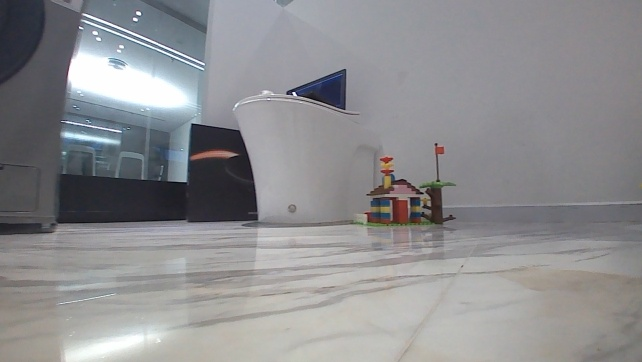plastic_toy: (352, 140, 457, 228)
toilet: (229, 92, 363, 227)
washing_machine1: (0, 0, 81, 234)
